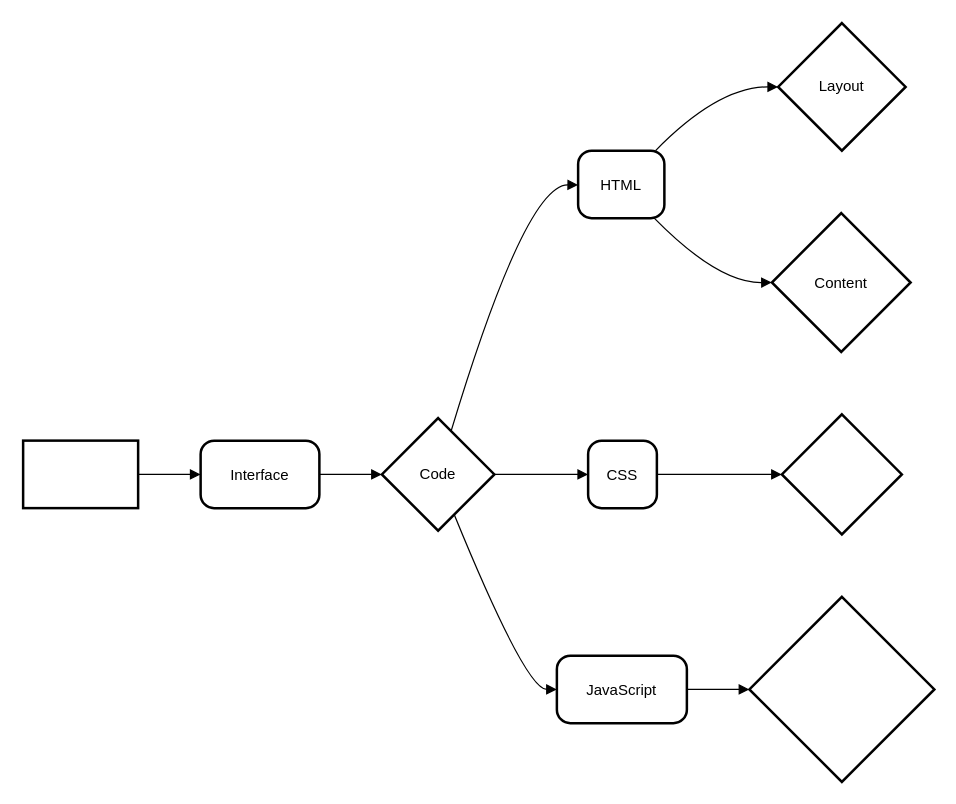
Image size: 956x804. Some labels were removed from this diagram. Each missing label, with the centre of its shape:
"Functionality" goes at pixel 841 688.
"Styles" goes at pixel 841 473.
"User" goes at pixel 80 474.
